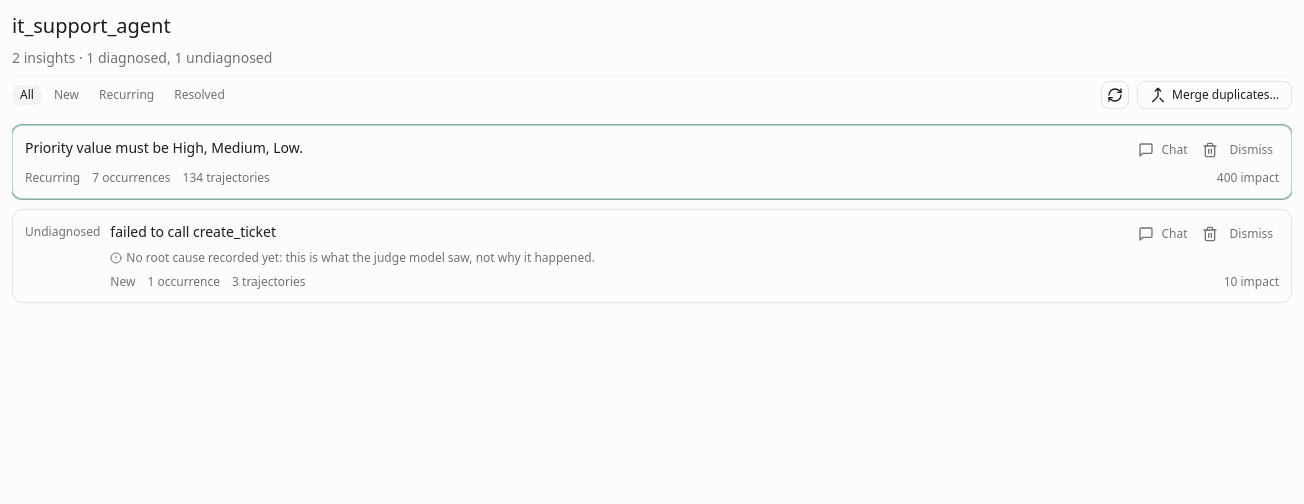
Scenario: InsightsView › enters merge mode and selects candidates
The width and height of the screenshot is (1304, 504).
Click the button "Merge duplicates…" at (1214, 95), box [1137,81,1292,109]
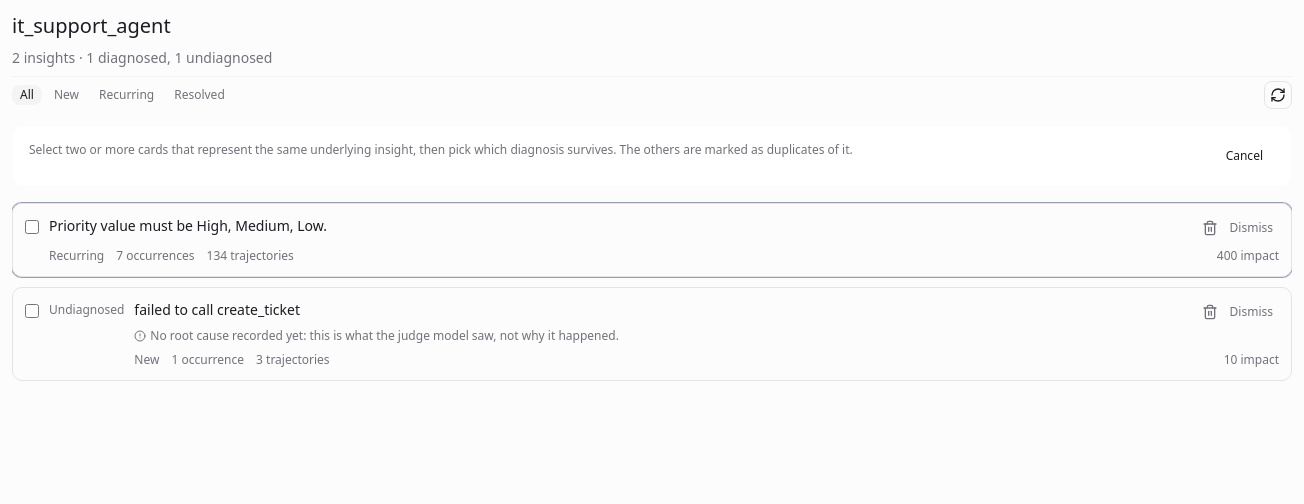
Check: the element named "Merge duplicate insights" is shown, box [12,125,1292,187]
Check: the number of checkboxes is 2
Click the checkbox named "Select Priority value must be High, Medium, Low. for merging" at (32, 227), box [25,220,39,234]
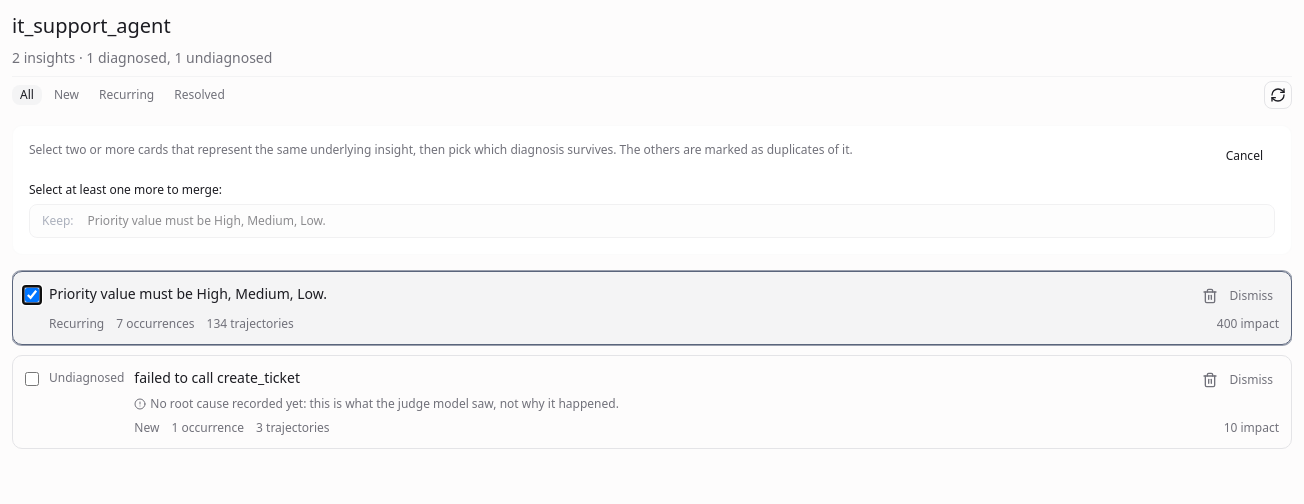
Click the checkbox named "Select failed to call create_ticket for merging" at (32, 379), box [25,372,39,386]
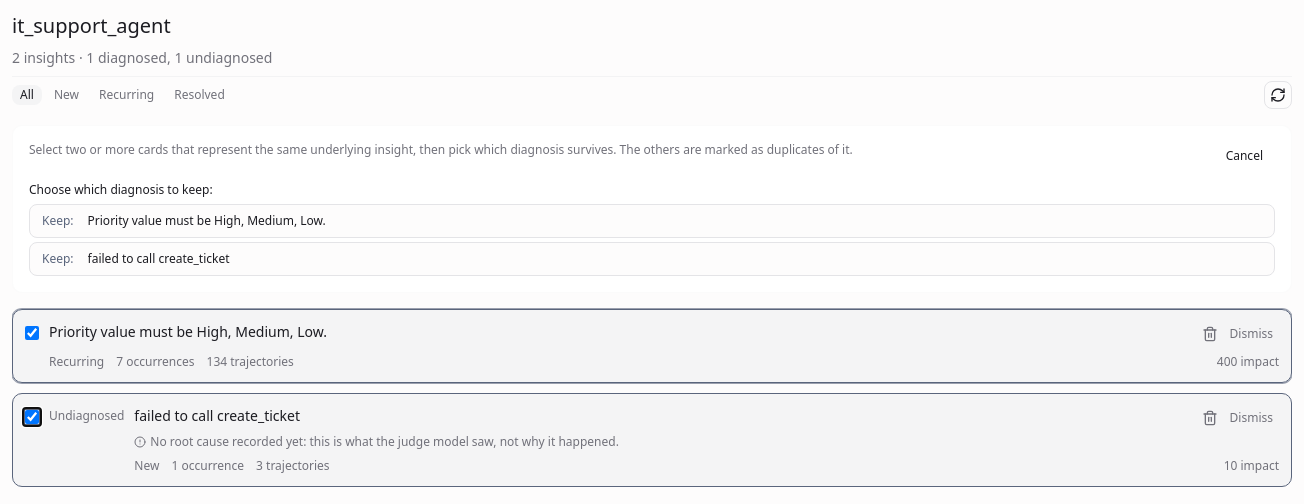
Check: the button "Keep: Priority value must be High, Medium, Low." is enabled, box [29,204,1275,238]
